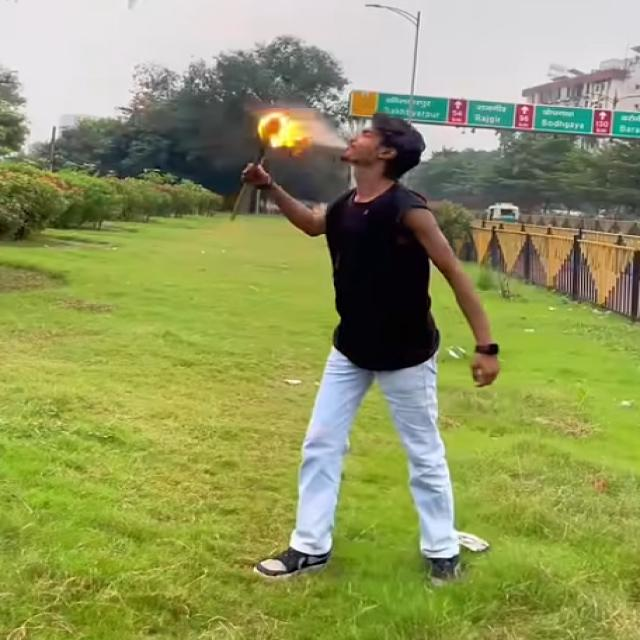fire: (260, 107, 312, 157)
